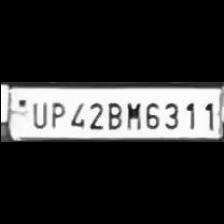1: (181, 99, 199, 130), (198, 99, 216, 130)
2: (85, 99, 103, 130)
3: (160, 99, 180, 129)
4: (66, 98, 86, 130)
6: (140, 99, 160, 129)
B: (104, 99, 122, 129)
M: (122, 99, 142, 130)
P: (46, 99, 64, 129)
U: (28, 98, 46, 128)
